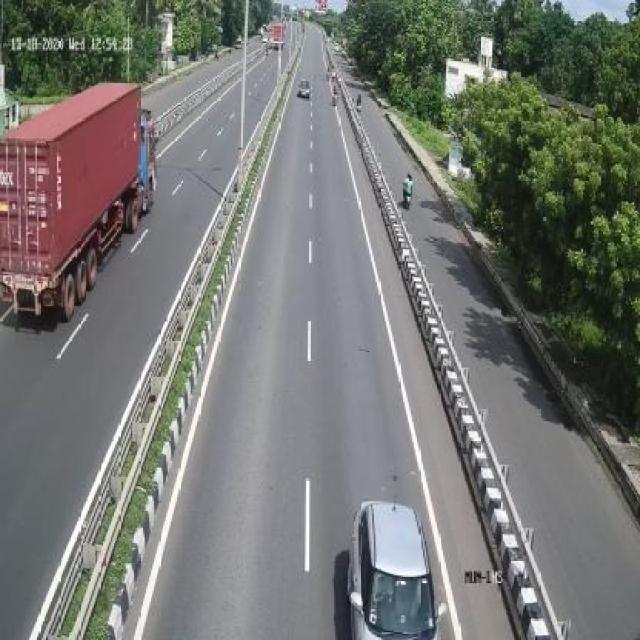car: (340, 495, 442, 640), (296, 74, 312, 103)
